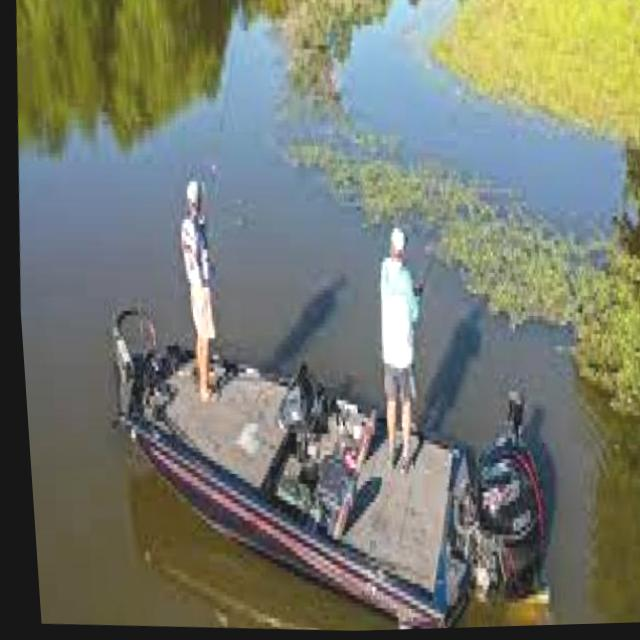ship2: (103, 311, 462, 632)
